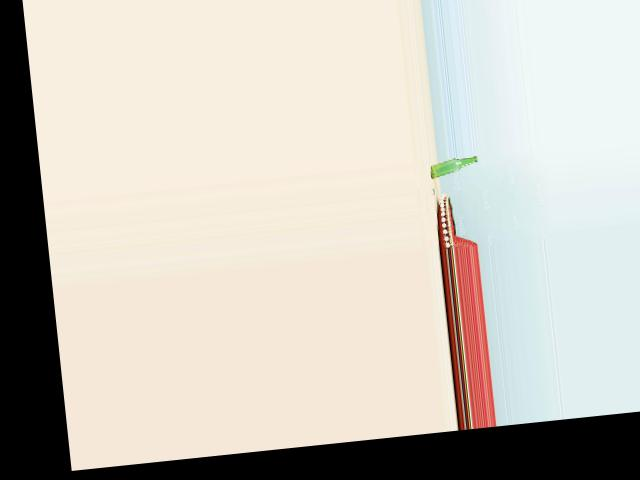beer: (428, 156, 479, 178)
